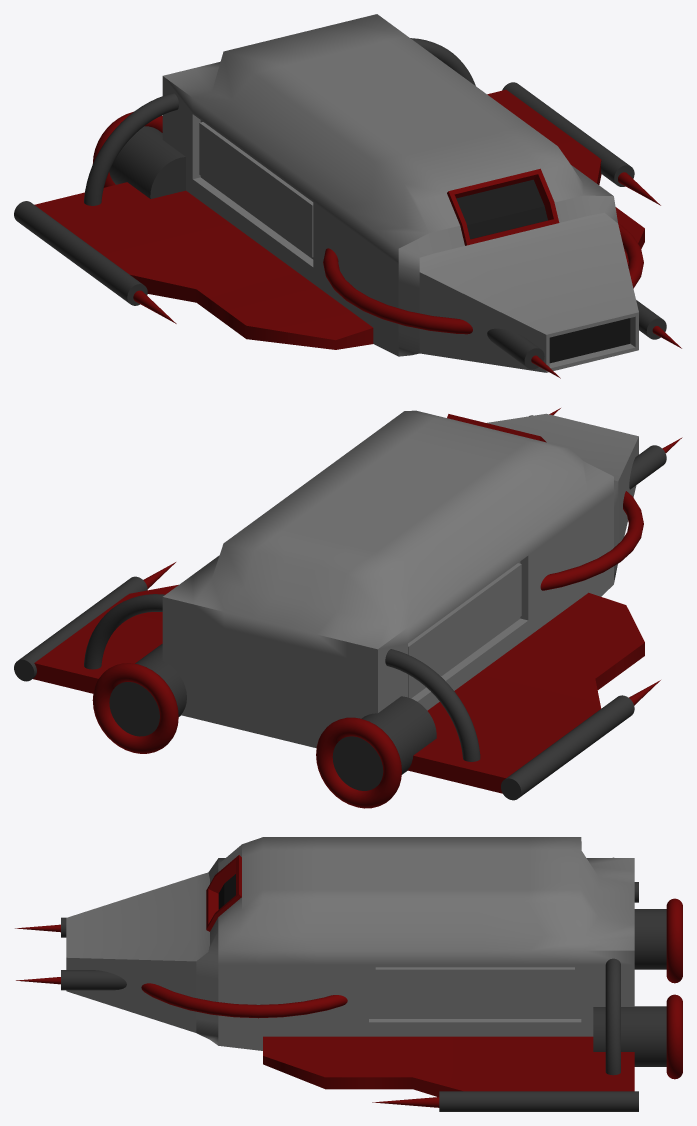
File: Enemy.fbx
3 views of the same model, one above another, from view 1: azimuth 30°, elevation 25°; view 2: azimuth 150°, elevation 25°; view 3: azimuth 270°, elevation 25° (orthographic). The views are drawn at different scales.
Visible parts, largest first — view 1: Cube, Cylinder, Cylinder_2, Torus, Torus_1_2, Cylinder_3, Cone, Torus_1; view 2: Cube, Cylinder_2, Torus_1, Cylinder, Torus_1_2, Torus, Cylinder_3; view 3: Cube, Cylinder_2, Cylinder, Torus, Torus_1, Torus_1_2, Cylinder_3.
Boxes of the visible parts, x1,y1,x2,y2 form: Cube: (34,14,644,372); Cylinder: (14,82,634,305); Cylinder_2: (109,126,185,198); Torus: (323,223,643,334); Torus_1_2: (84,38,475,205); Cylinder_3: (487,300,666,369); Cone: (133,172,660,323); Torus_1: (92,111,162,187); Cube: (33,410,644,793); Cylinder_2: (109,644,436,790); Torus_1: (92,663,401,808); Cylinder: (14,576,634,800); Torus_1_2: (84,594,480,761); Torus: (540,491,643,590); Cylinder_3: (529,415,666,489); Cube: (66,837,634,1096); Cylinder_2: (593,909,666,1066); Cylinder: (439,882,638,1111); Torus: (141,983,347,1018); Torus_1: (666,898,682,1079); Torus_1_2: (605,857,620,1075); Cylinder_3: (61,917,126,990).
Size of the model in its own units: 298 by 100 by 387.
